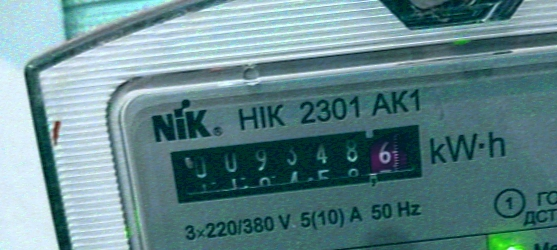0: (191, 153, 207, 180), (221, 150, 239, 174)
3: (282, 142, 298, 170)
4: (312, 139, 328, 167)
6: (374, 139, 394, 167)
8: (341, 136, 359, 166)
9: (251, 146, 269, 174)
screen: (159, 117, 434, 215)
